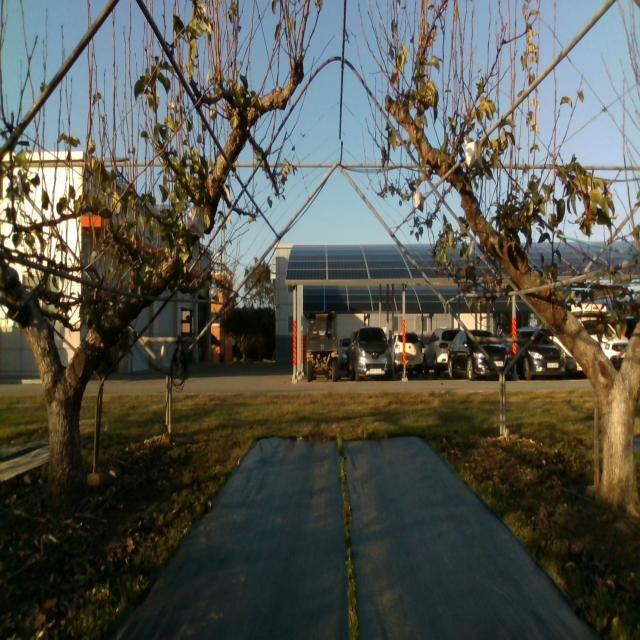pearbags: (187, 204, 205, 239), (464, 138, 477, 169)
